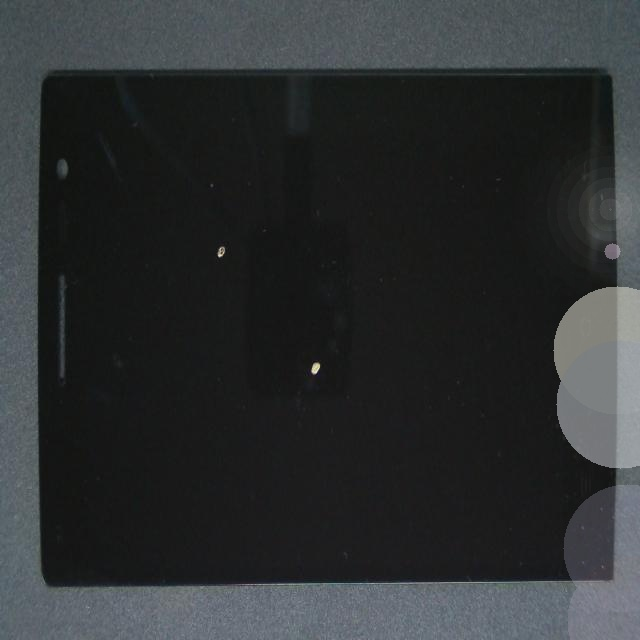stain: (117, 173, 459, 594), (58, 131, 322, 410)
